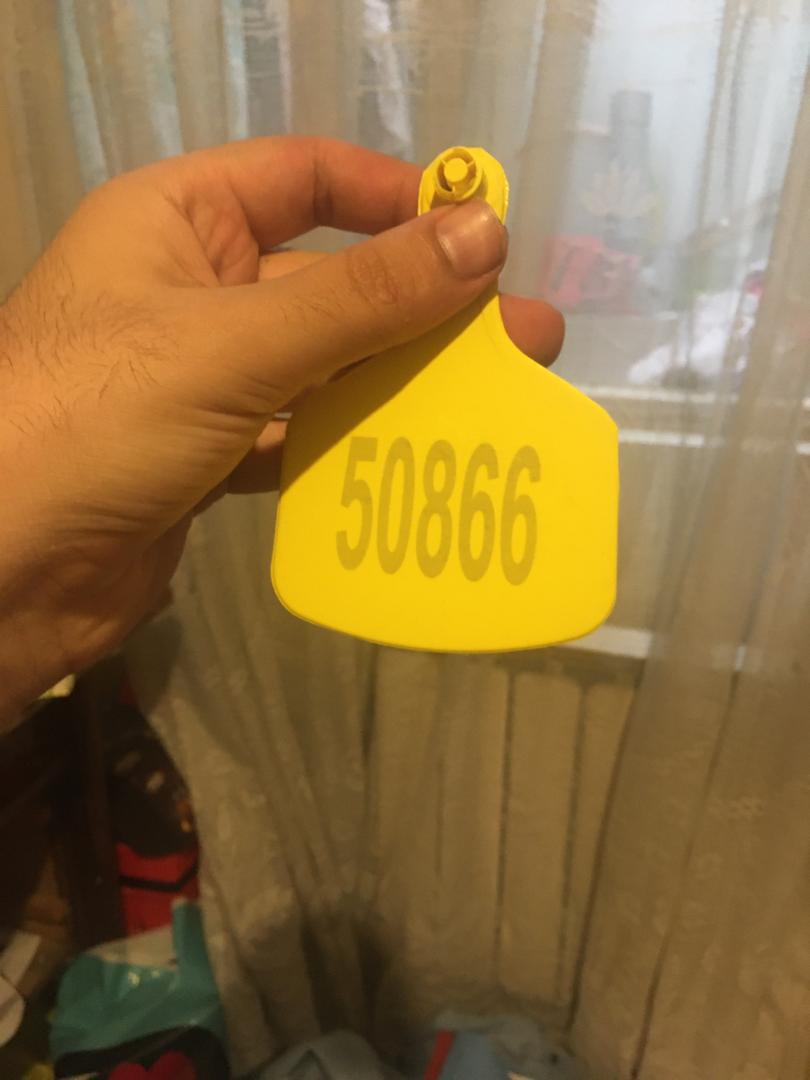digit: (335, 429, 543, 587)
